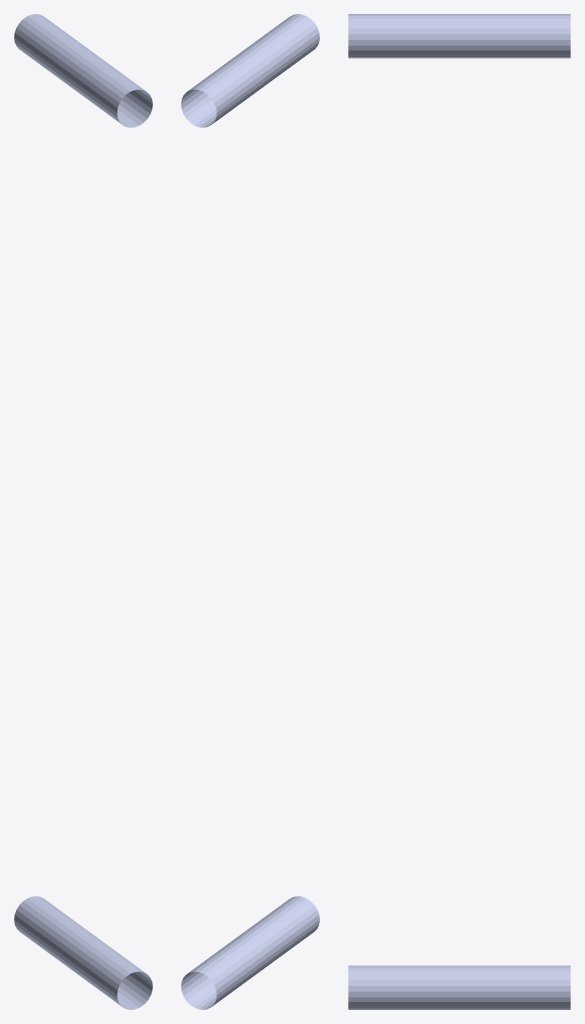
File: zatana_terra_Z_parts_vis_1.dae
3 renders of one model, left to right at view 1: azimuth 30°, elevation 25°; view 2: azimuth 150°, elevation 25°; view 3: azimuth 270°, elevation 25°, orthographic. The views are drawn at different scales.
Visible parts, largest first — view 1: Node_000002318374D100; view 2: Node_000002318374D100; view 3: Node_000002318374D100.
Part boxes in pixels (<box>): Node_000002318374D100: <box>14,14,152,1009</box>; Node_000002318374D100: <box>181,14,319,1009</box>; Node_000002318374D100: <box>348,14,570,1009</box>.
Size of the model in its own units: 0.00501 by 0.123 by 0.025.
